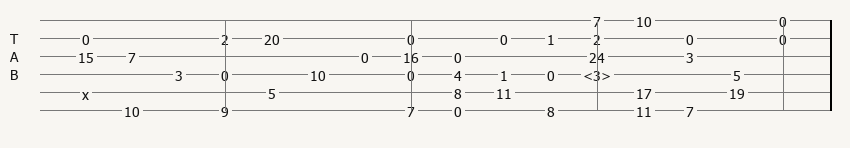0: (82, 31, 94, 45), (221, 67, 233, 81), (361, 49, 373, 63), (407, 67, 419, 81), (407, 31, 419, 45), (454, 103, 466, 117), (454, 49, 466, 63), (500, 31, 512, 45), (547, 67, 559, 81), (686, 31, 698, 45), (779, 13, 791, 27), (779, 31, 791, 45)
1: (500, 67, 512, 81), (547, 31, 559, 45)
10: (124, 103, 144, 117), (310, 67, 330, 81), (636, 13, 656, 27)
11: (496, 85, 516, 99), (636, 103, 656, 117)
15: (78, 49, 98, 63)
16: (403, 49, 423, 63)
17: (636, 85, 656, 99)
19: (729, 85, 749, 99)
2: (221, 31, 233, 45), (593, 31, 605, 45)
20: (264, 31, 284, 45)
24: (589, 49, 609, 63)
3: (175, 67, 187, 81), (686, 49, 698, 63)
4: (454, 67, 466, 81)
5: (268, 85, 280, 99), (733, 67, 745, 81)
7: (128, 49, 140, 63), (407, 103, 419, 117), (593, 13, 605, 27), (686, 103, 698, 117)
8: (454, 85, 466, 99), (547, 103, 559, 117)
9: (221, 103, 233, 117)
harmonic: (583, 67, 615, 81)
x: (82, 86, 93, 98)
